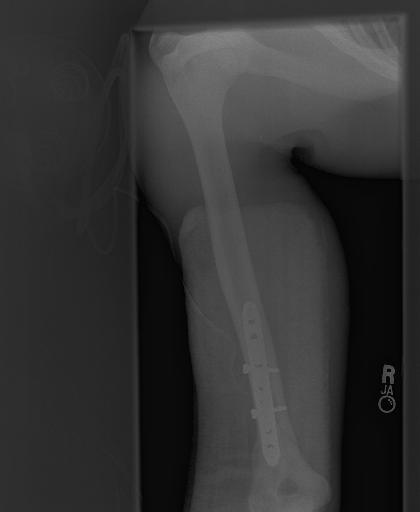implant: (234, 298, 291, 465)
